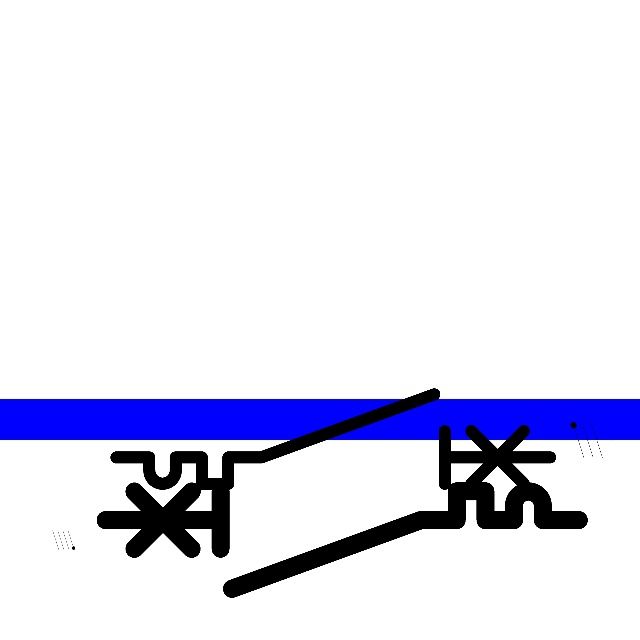interruptor_termomagnetico: (93, 479, 591, 601), (105, 383, 561, 495)
